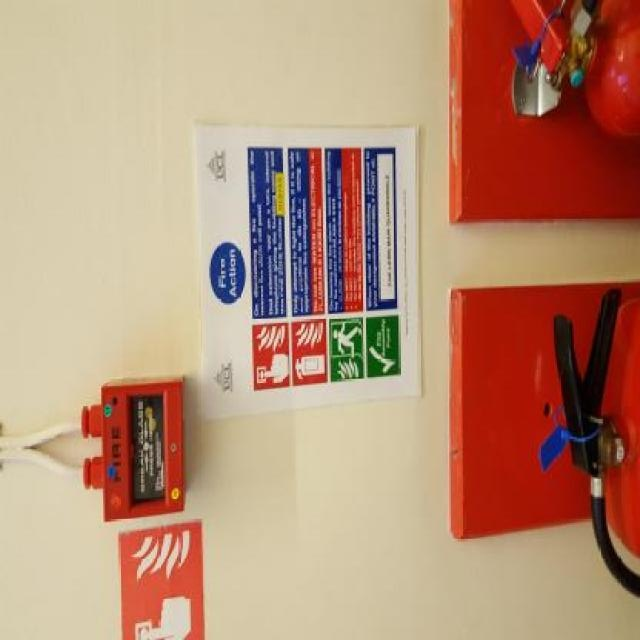fire extinguisher: (552, 290, 640, 598), (516, 6, 636, 142)
